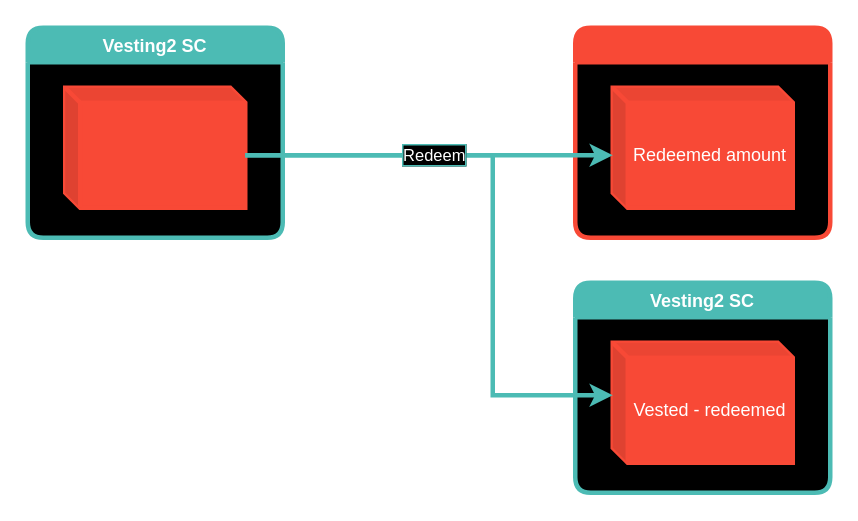
The diagram is 858 pixels wide and 521 high, and some of its shapes have lost their labels. Here are the shapes that lost their labels. From the top down, the box of each, then its label:
(62, 85, 247, 209): Vested amount
(572, 25, 832, 239): User Wallet
